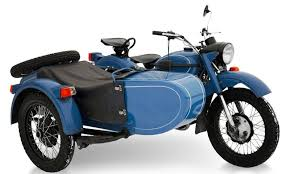Motorbike: (10, 28, 279, 171)
